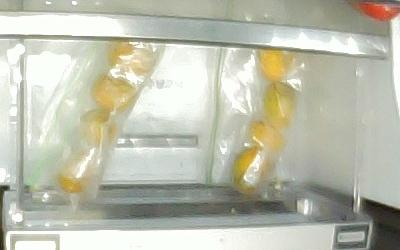tangerine_vinyl: (231, 145, 276, 195), (90, 73, 135, 112), (107, 42, 157, 77), (262, 80, 296, 129), (249, 119, 286, 155), (58, 159, 97, 193), (80, 110, 116, 146), (258, 52, 291, 80)
